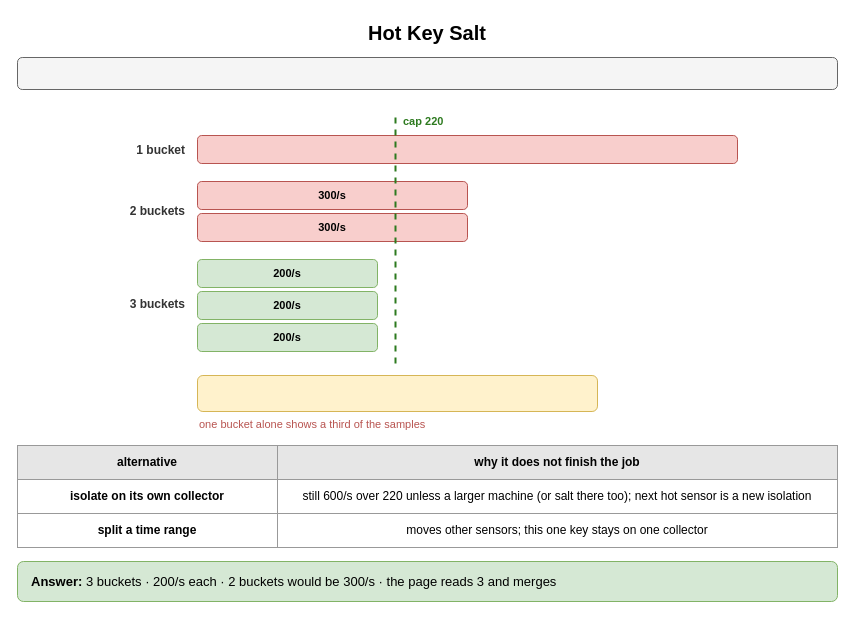
This 855x619 diagram has some shape labels left out. The centre of each missing label's shape, as x and y in pixels:
600/s: point (467, 149)
house page: read s-royal#0, #1, #2 and merge: point (397, 393)
s-royal writes 600/s; one collector takes 220/s: point (427, 73)
